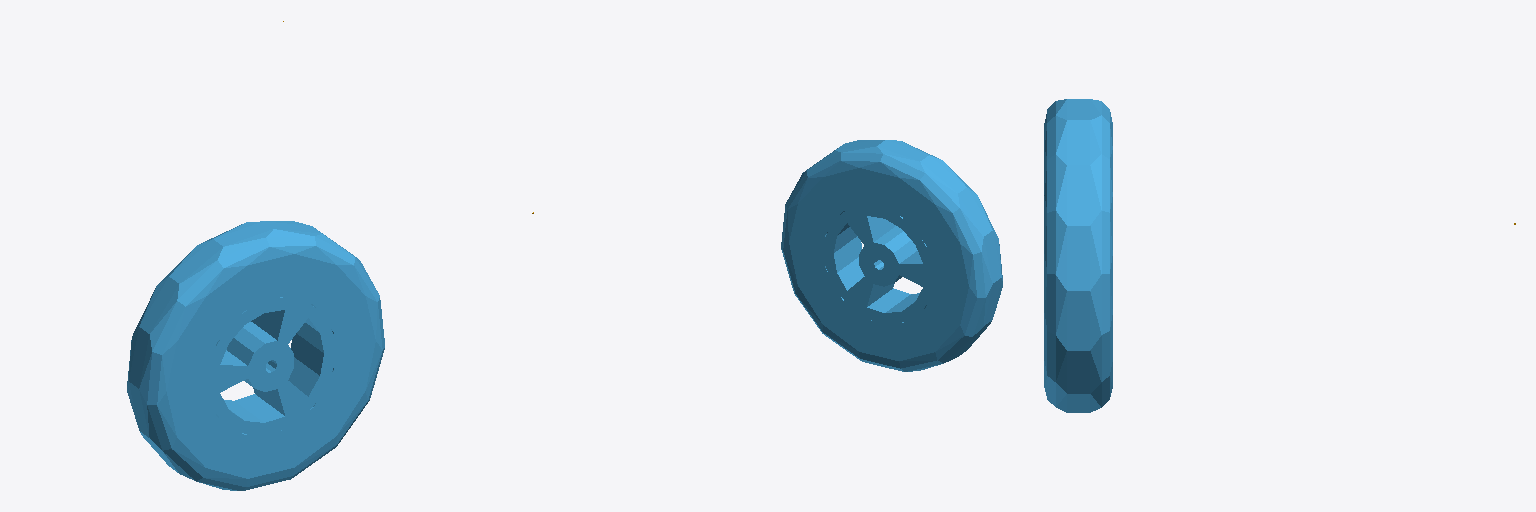
The robot description file, URDF, robot "myfirstrobot":
<?xml version="1.0"?>

<robot name="myfirstrobot">

  <link name="base_link">
    <visual>
      <geometry>
        <box size="0.1 0.1 0.1"/>
      </geometry>
    </visual>
  </link>

  <link name="right_back_wheel_link">
    <visual>
      <origin rpy="0 0 0"  xyz="0 -0.11 0"/>
      <geometry>
        <!-- <box size="0.1 0.1 0.1"/>-->
        <mesh filename="package://scooter/description/meshes/wheel.stl" scale="1 1 1"/>
      </geometry>
    </visual>
  </link>

  <joint name="base_to_right_back_wheel" type="fixed">
  	<parent link="base_link"/>
  	<child link="right_back_wheel_link"/>
  	<origin xyz="0.0 0.0 0.0"/>
  </joint>
<!--
  <link name="left_back_wheel_link">
    <visual>
      <origin xyz="0 0.11 0"/>
      <geometry>
      <mesh filename="package://scooter/meshes/wheel.stl" scale="0.01 0.01 0.01"/> 
        <box size="0.1 0.1 0.1"/>
      </geometry>
    </visual>
  </link>

  <joint name="base_to_left_back_wheel" type="fixed">
  	<parent link="base_link"/>
  	<child link="left_back_wheel_link"/>
    <origin xyz="0 0.22 0"/>
  </joint>
-->

</robot>

--- Render facts (derived) ---
Views: 3 orthographic renders of the robot side by side, from view 1: azimuth 30°, elevation 25°; view 2: azimuth 150°, elevation 25°; view 3: azimuth 270°, elevation 25°.
Model myfirstrobot with 2 links and 1 joints (1 fixed), rooted at base_link, posed all joints at 0.
Visible links, largest first — view 1: right_back_wheel_link; view 2: right_back_wheel_link; view 3: right_back_wheel_link.
Link boxes in pixels (bbox=[...]): right_back_wheel_link: bbox=[127, 221, 384, 490]; right_back_wheel_link: bbox=[781, 140, 1002, 371]; right_back_wheel_link: bbox=[1044, 99, 1112, 412].
Bounding box of the posed robot: 28.7 × 30.32 × 21.04 m (x, y, z).
1 mesh visuals loaded from 1 distinct referenced files (1 binary STL).